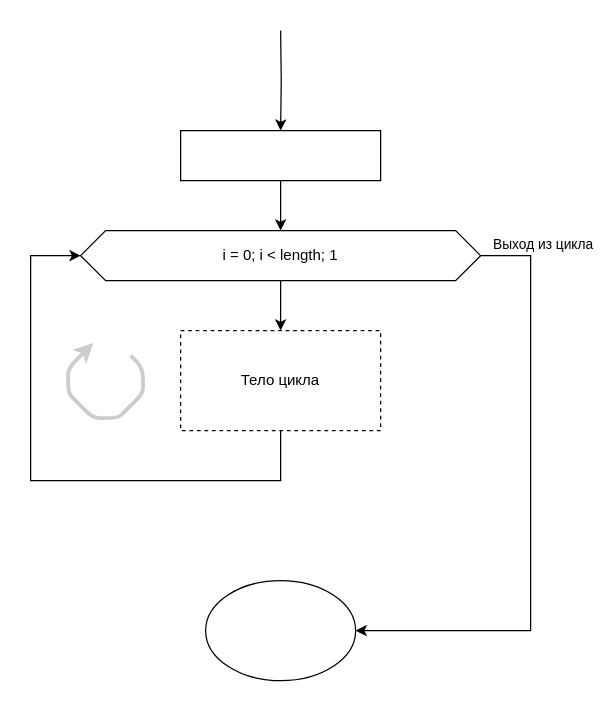
Image size: 614x703. Some labels were removed from this diagram. Here are the shapes that lost their labels. From the top down, the centre of each, then its label:
At (x=280, y=155): "length = 5".
At (x=280, y=630): "Конец".
